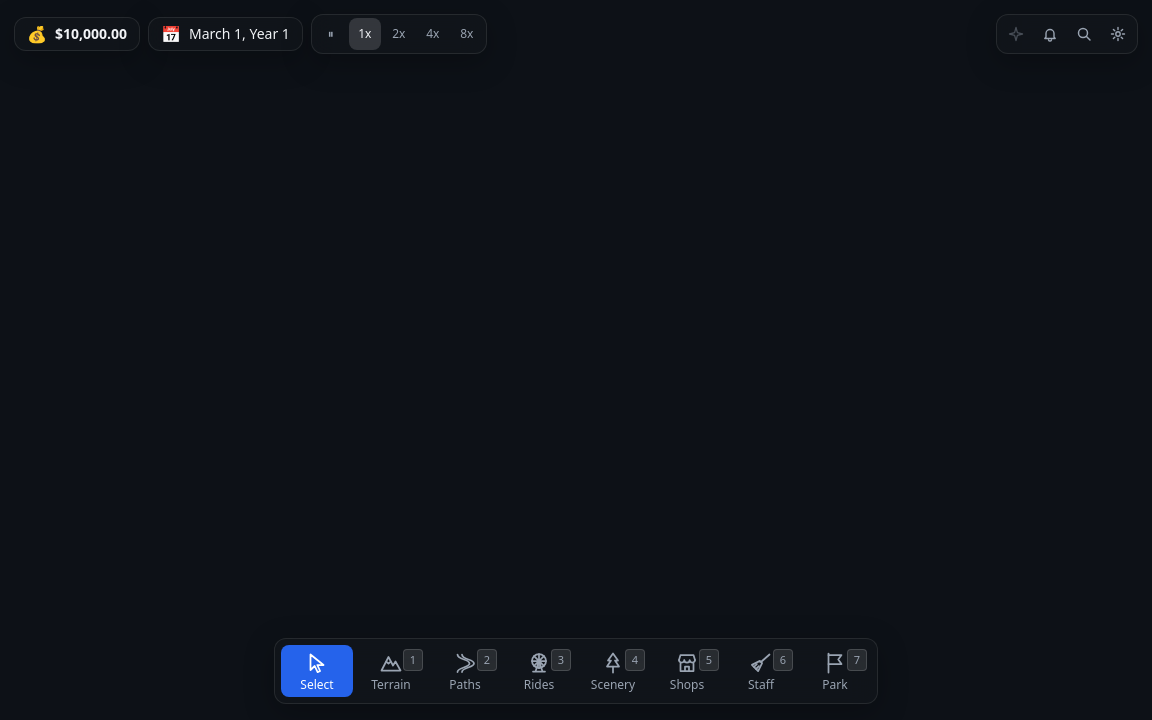
Test case: the park tray and the inspector › opens the inspector on a tab from the Park tray, and shuts it again
The image size is (1152, 720).
Press 7
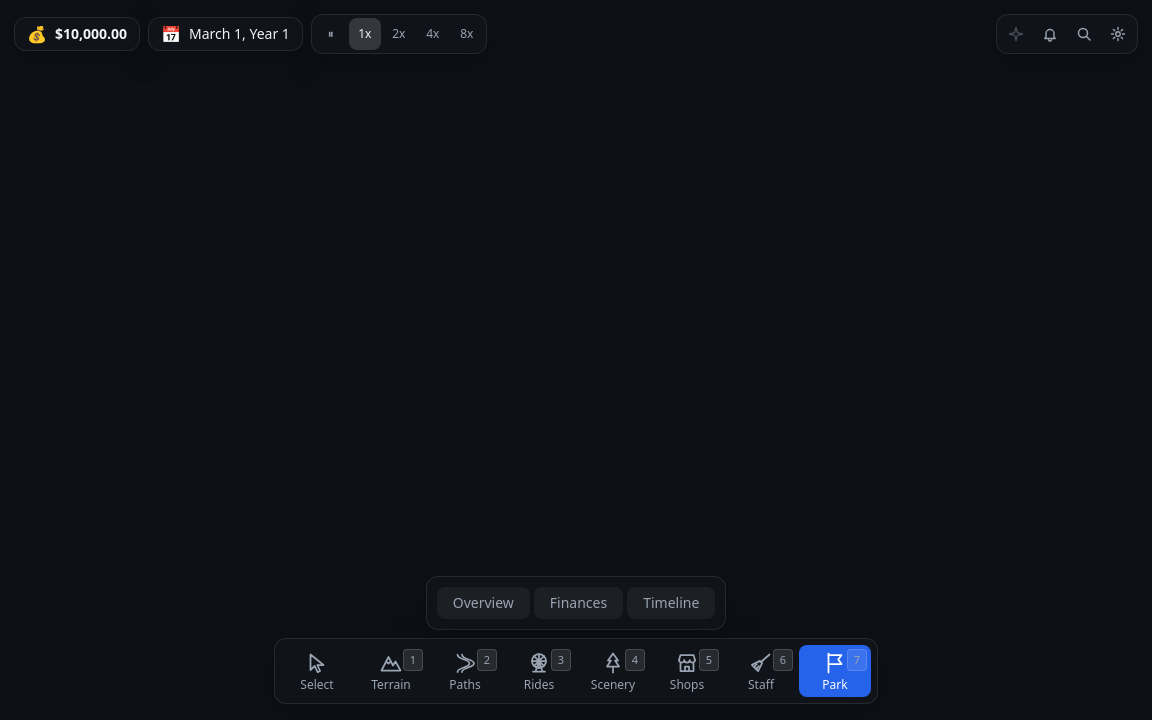
Click the button "Finances". click: click(578, 603)
box: [534,587,623,619]
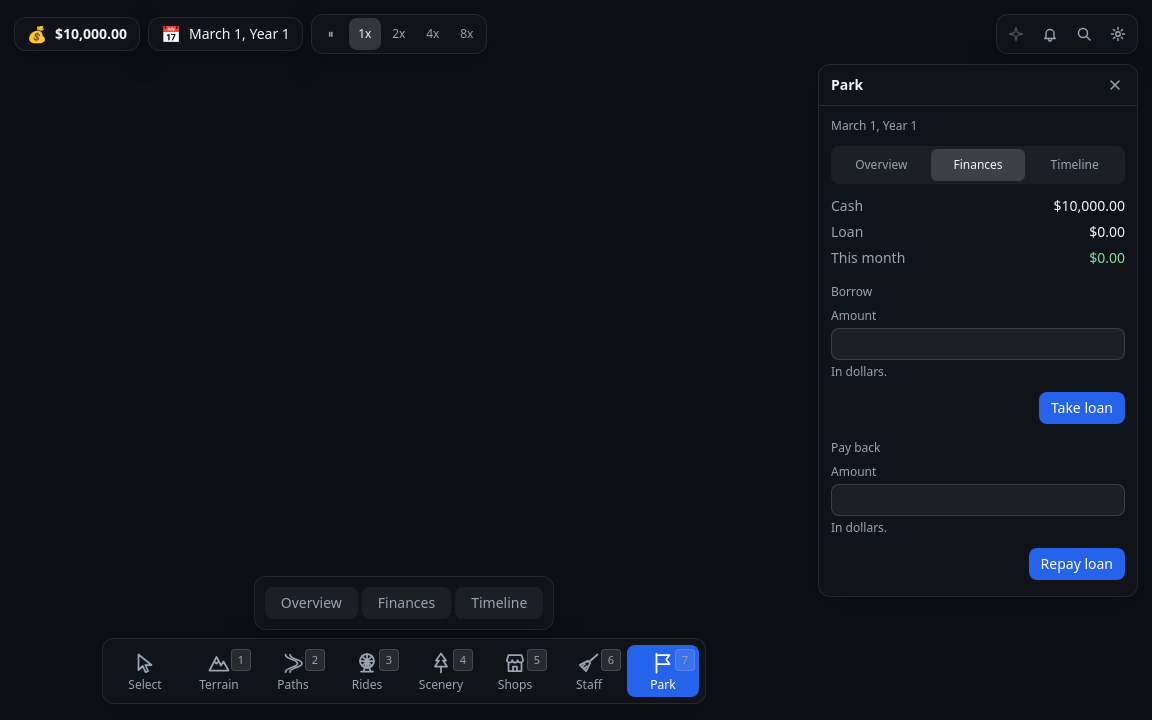
Click the button named "Close inspector". click: click(1115, 85)
box: [1099,69,1131,101]
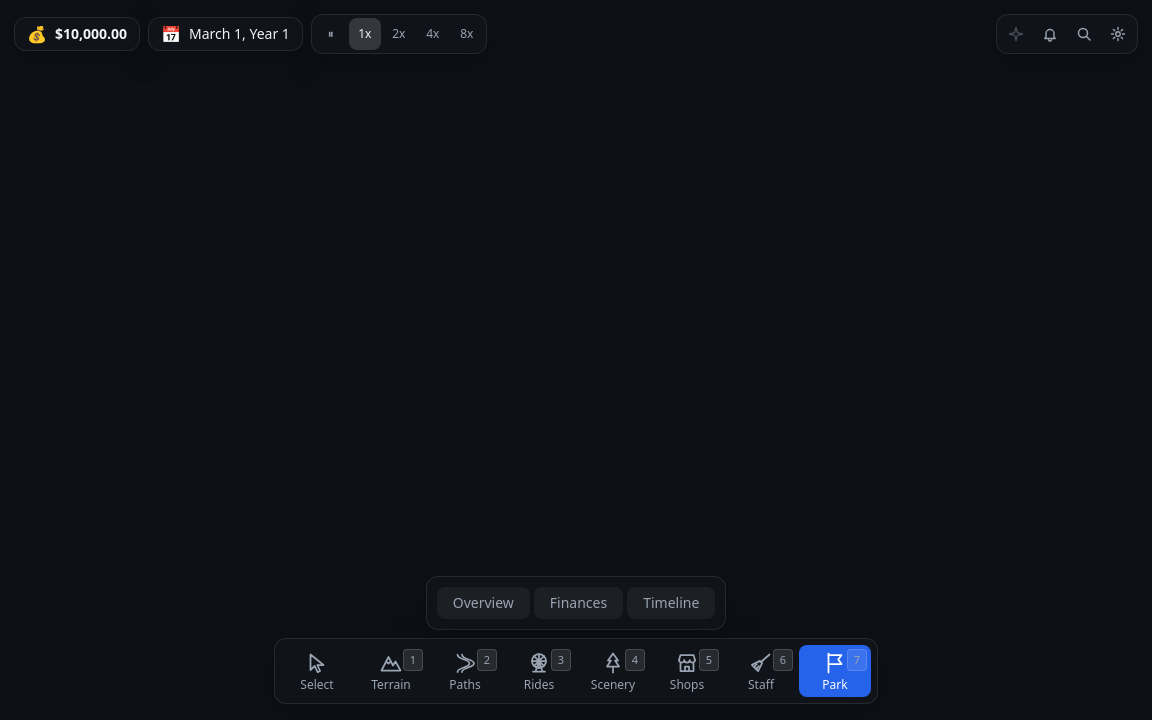
Expected: the button "Inspector" is gone
